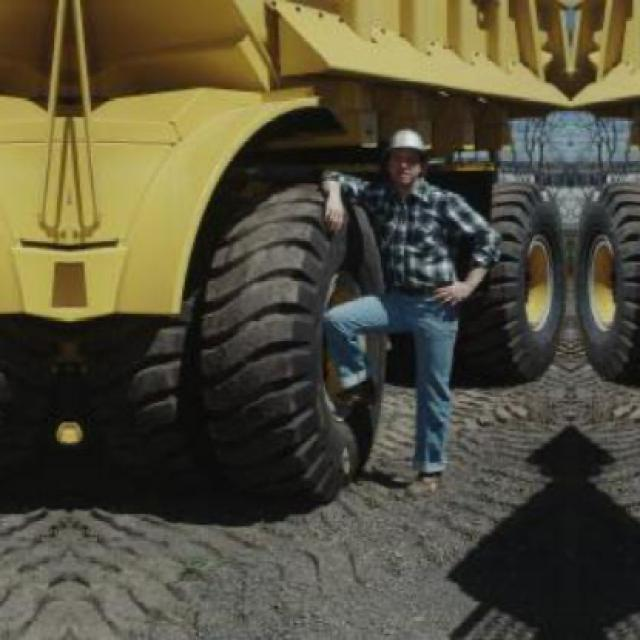helmet: (381, 126, 432, 183)
